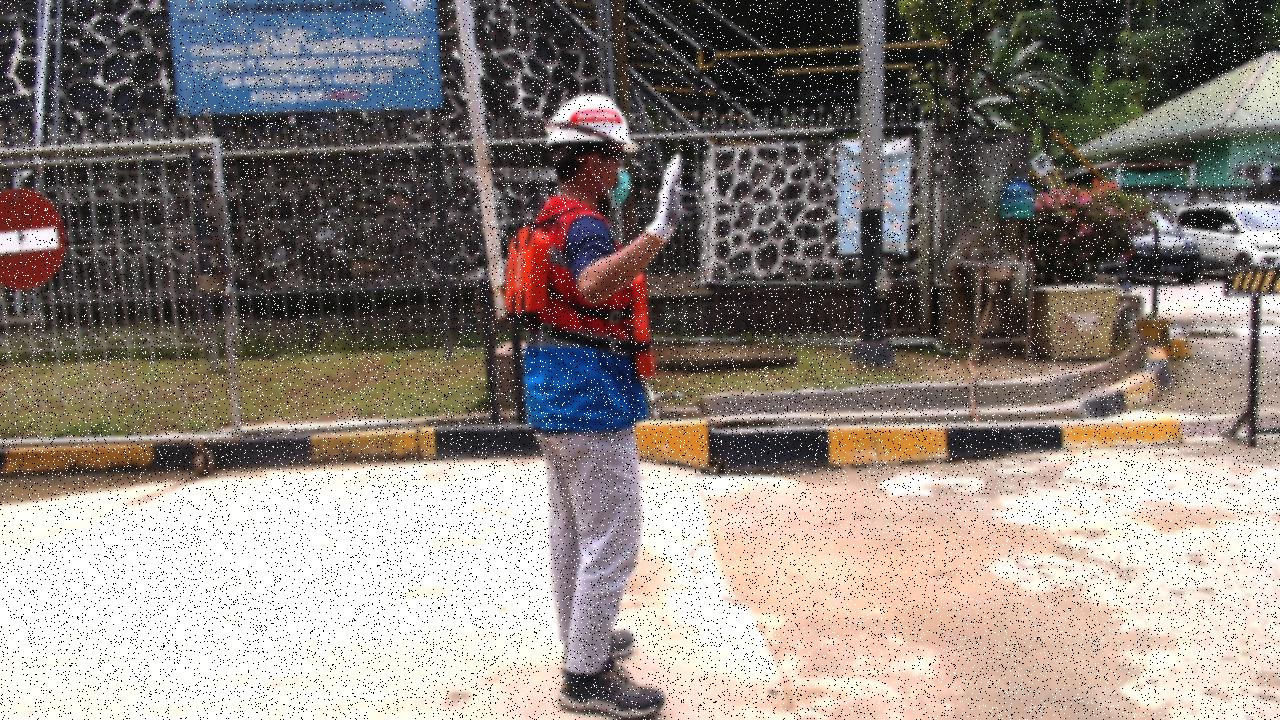glasses: (574, 152, 630, 168)
gloves: (646, 153, 693, 245)
helmet: (543, 92, 640, 151)
mask: (606, 164, 631, 211)
safety-shoes: (553, 655, 666, 718), (602, 626, 641, 659)
vest: (503, 220, 658, 382)
